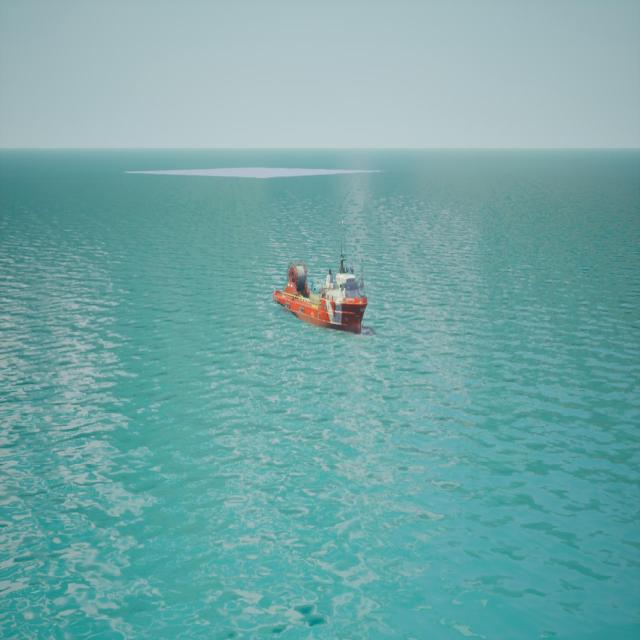tug boat: (276, 241, 371, 340)
